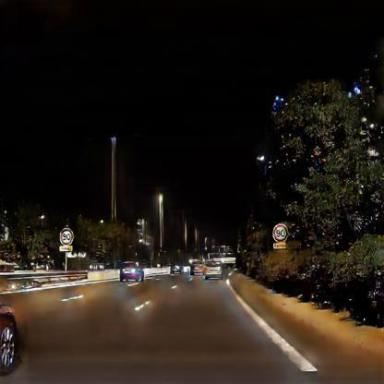Speed_limit_90: (273, 225, 288, 243)
